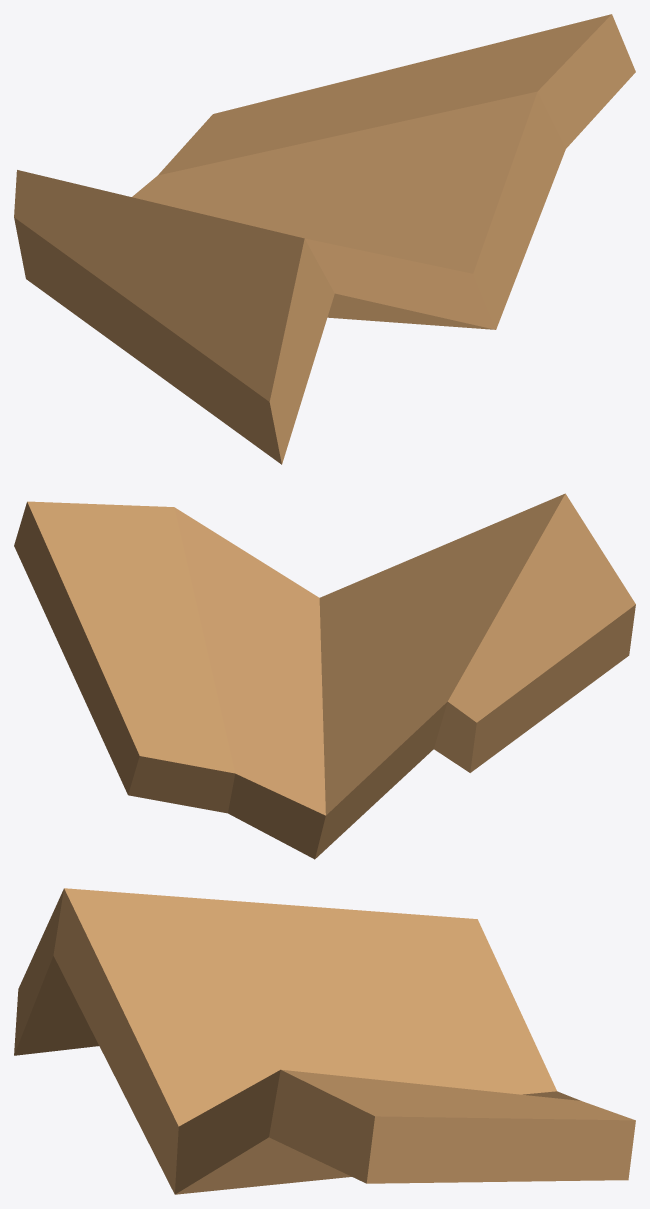
File: Trash_CardBoard.fbx
The picture shows the model from 3 angles, top to bottom: view 1: azimuth 30°, elevation 25°; view 2: azimuth 150°, elevation 25°; view 3: azimuth 270°, elevation 25°; orthographic projection. The views are drawn at different scales.
Visible parts, largest first — view 1: Trash04; view 2: Trash04; view 3: Trash04.
Boxes of the visible parts, box(x1,y1,x2,y2) form: Trash04: box(14, 14, 635, 464); Trash04: box(14, 493, 635, 859); Trash04: box(14, 888, 635, 1194).
Size of the model in its own units: 195 by 81.78 by 186.
